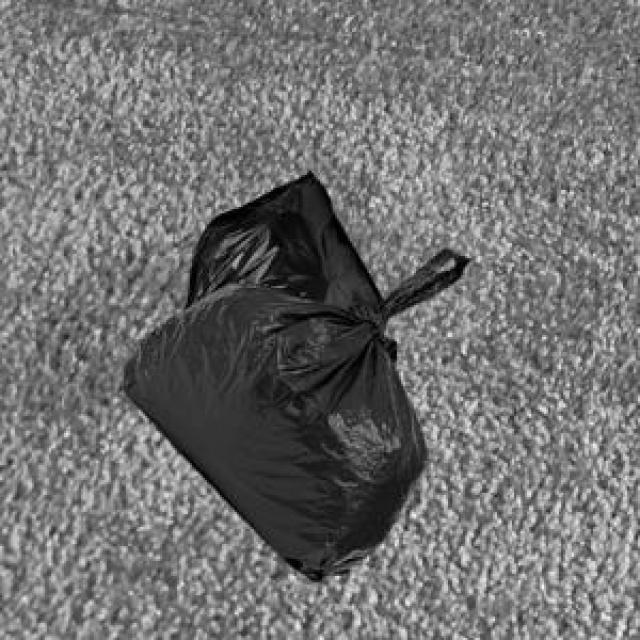miscellaneous trash: (120, 245, 465, 578), (182, 166, 380, 312)
